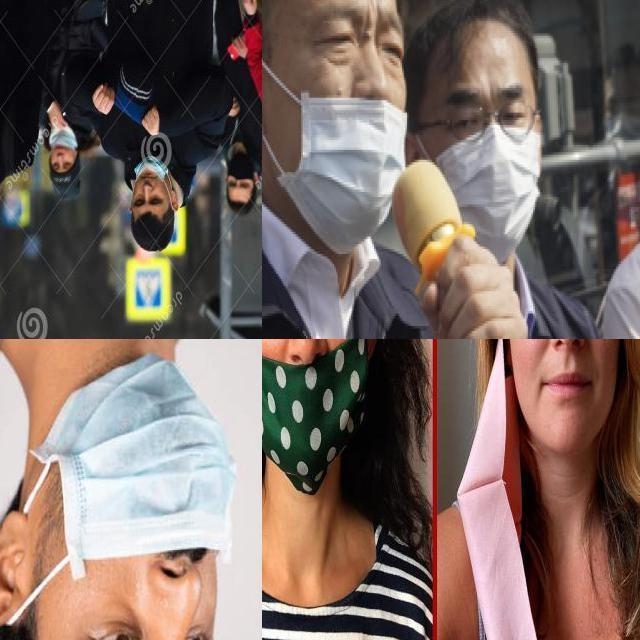hairnet: (62, 387, 227, 639), (279, 63, 407, 252), (262, 339, 364, 463), (136, 156, 167, 192), (52, 129, 78, 160)
